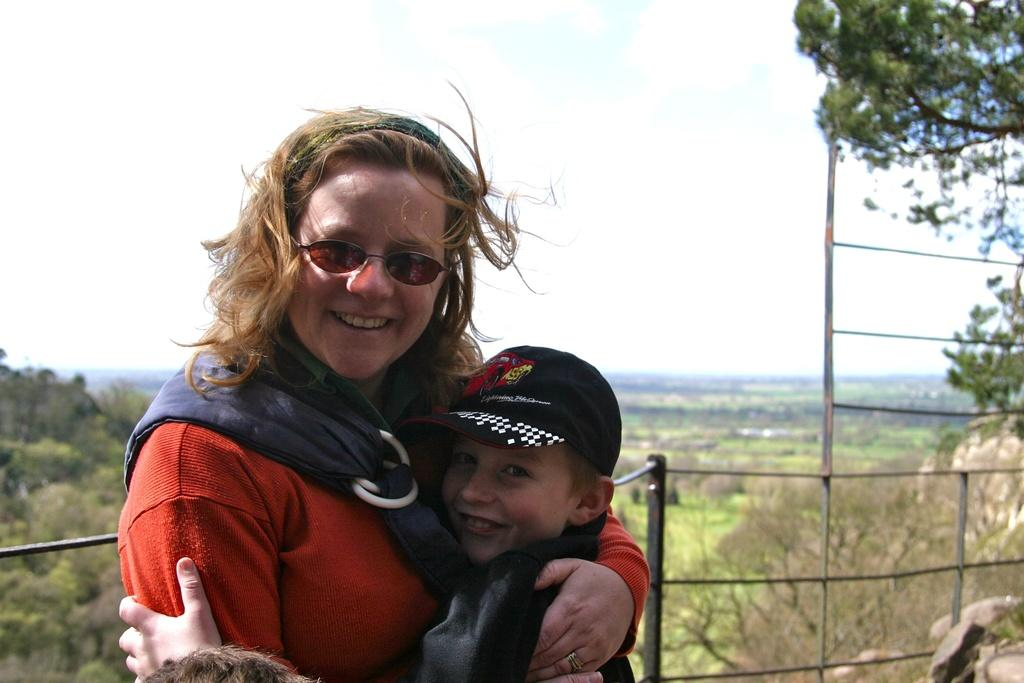Hat: (396, 343, 626, 481)
